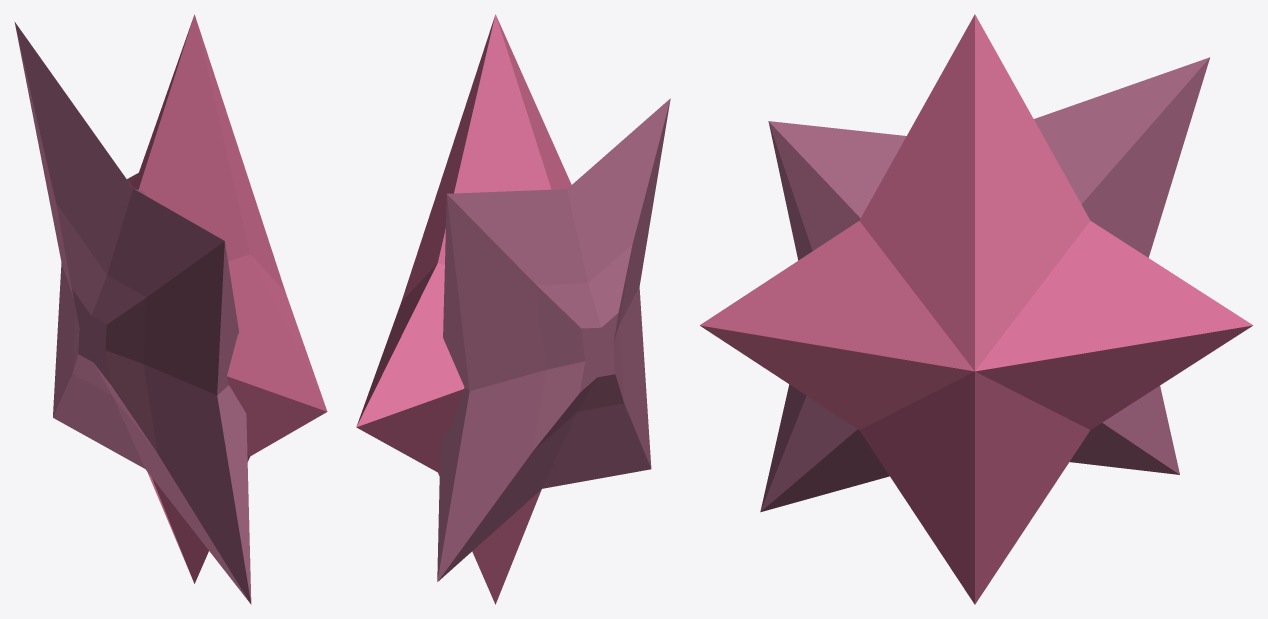
Rendered from StarShard.fbx.
3 views of the same model, side by side, from view 1: azimuth 30°, elevation 25°; view 2: azimuth 150°, elevation 25°; view 3: azimuth 270°, elevation 25° (orthographic). The views are drawn at different scales.
Visible parts, largest first — view 1: Cube.001, Cube; view 2: Cube.001, Cube; view 3: Cube, Cube.001.
Part boxes in pixels (<box>): Cube.001: <box>14,22,251,604</box>; Cube: <box>127,14,327,583</box>; Cube.001: <box>437,98,670,581</box>; Cube: <box>356,14,571,604</box>; Cube: <box>700,14,1252,604</box>; Cube.001: <box>760,57,1209,512</box>.
Size of the model in its own units: 123 by 344 by 292.
